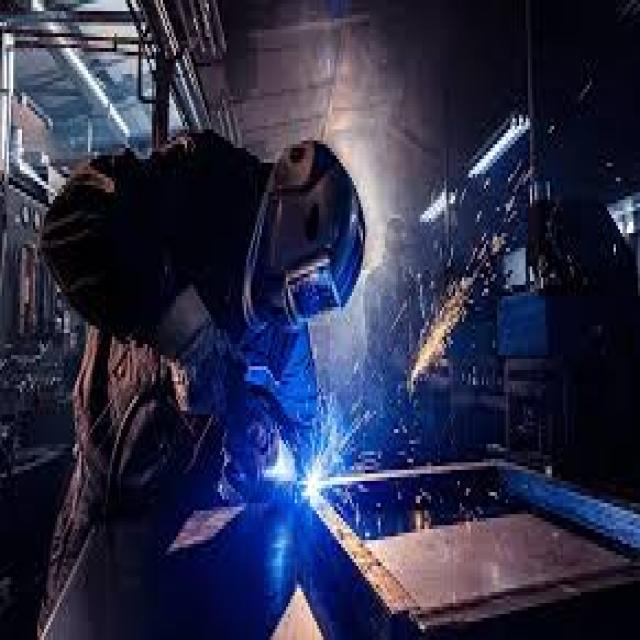welding: (304, 470, 322, 498)
